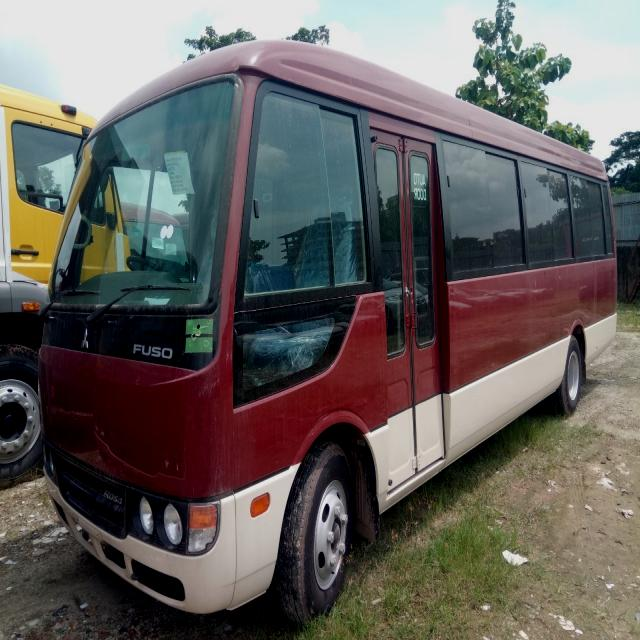bus: (44, 15, 640, 640)
